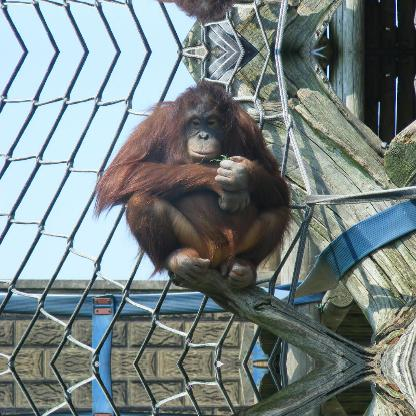Monkey: (95, 79, 291, 289)
